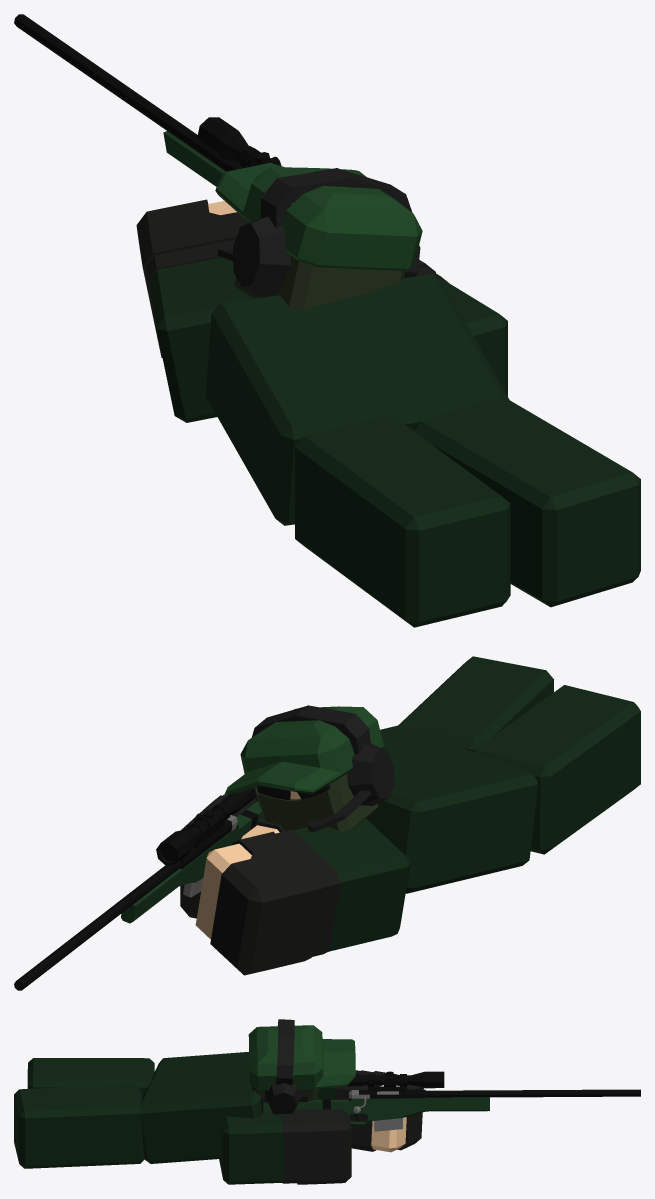
3 renders of one model, top to bottom at view 1: azimuth 30°, elevation 25°; view 2: azimuth 150°, elevation 25°; view 3: azimuth 270°, elevation 25°, orthographic. The views are drawn at different scales.
Parts seen in each view (by area): view 1: Cube, Cube.001, Cube.002; view 2: Cube, Cube.001, Cube.002; view 3: Cube, Cube.001, Cube.002.
Boxes of the visible parts, x1,y1,x2,y2 form: Cube: [205, 162, 640, 627]; Cube.001: [14, 14, 281, 422]; Cube.002: [416, 260, 507, 396]; Cube: [224, 656, 640, 893]; Cube.001: [14, 788, 410, 990]; Cube.002: [180, 795, 284, 918]; Cube: [14, 1019, 355, 1168]; Cube.001: [261, 1070, 640, 1152]; Cube.002: [219, 1099, 351, 1184].
Bounding box in the file's own units: 2.76 × 2.22 × 9.89.
